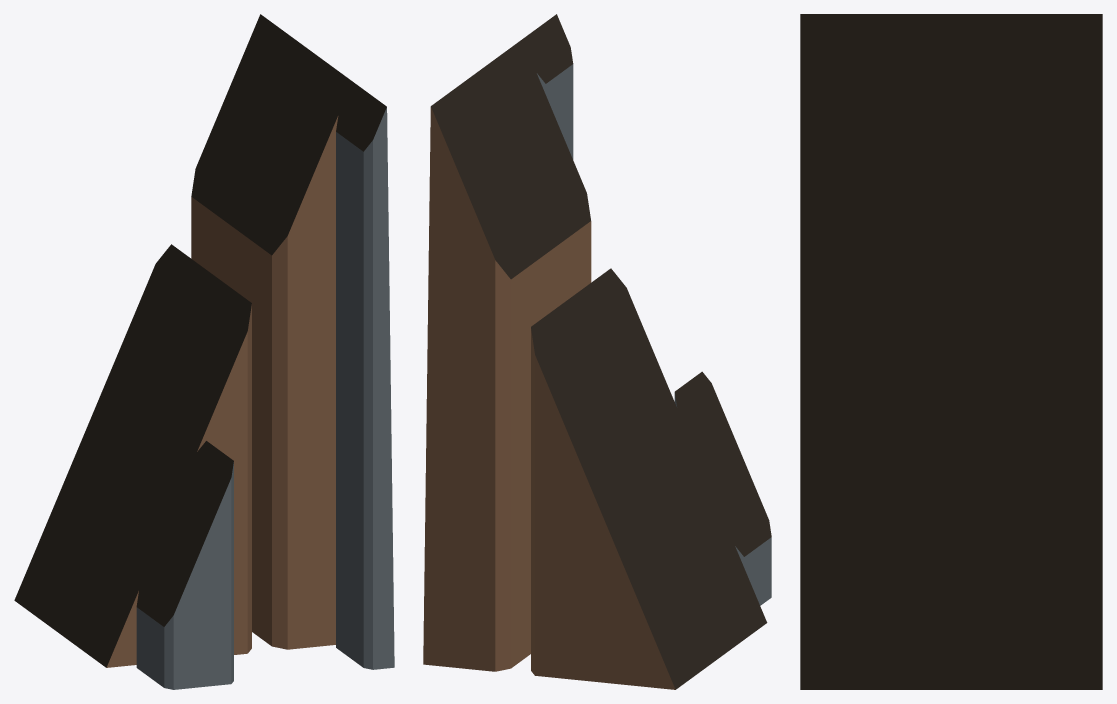
Rendered from SM_DoorShard_01_17.fbx.
The picture shows the model from 3 angles, left to right: view 1: azimuth 30°, elevation 25°; view 2: azimuth 150°, elevation 25°; view 3: azimuth 270°, elevation 25°; orthographic projection. The views are drawn at different scales.
Parts seen in each view (by area): view 1: SM_DoorShard_01_17; view 2: SM_DoorShard_01_17; view 3: SM_DoorShard_01_17.
Part boxes in pixels (left/top/right/bottom): SM_DoorShard_01_17: left=14, top=14, right=394, bottom=689; SM_DoorShard_01_17: left=423, top=14, right=771, bottom=689; SM_DoorShard_01_17: left=800, top=14, right=1102, bottom=689.
Bounding box in the file's own units: 25.44 × 22 × 53.94.
